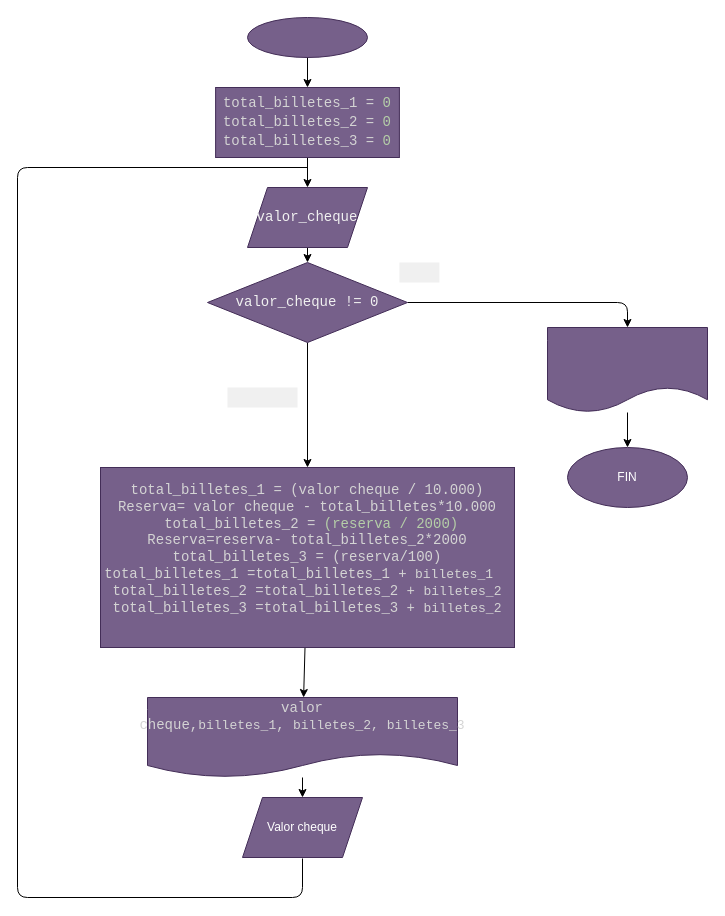
Image size: 725x916. Some labels were removed from this diagram. The shapes that lost their labels are listed below. From the top down, each one's centre as x and y in pixels, then its label:
the point at 307,37: INICIO
the point at 419,272: Falso
the point at 627,369: total_billetes_1, total_billetes_2, total_billetes_3
the point at 262,397: verdadero
